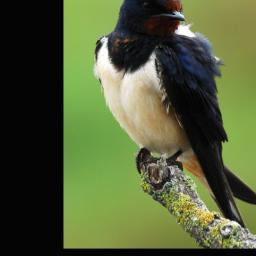Swallow: (92, 0, 256, 232)
